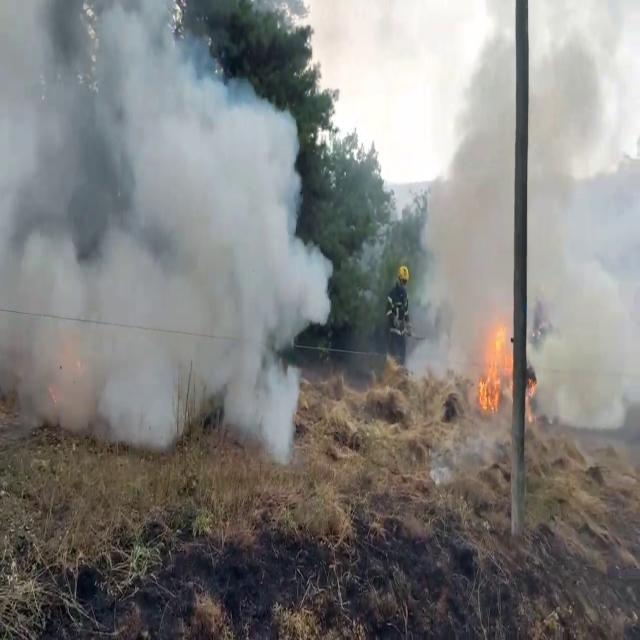Fire: (476, 312, 516, 414)
Smoke: (0, 1, 332, 458), (398, 1, 612, 378)
